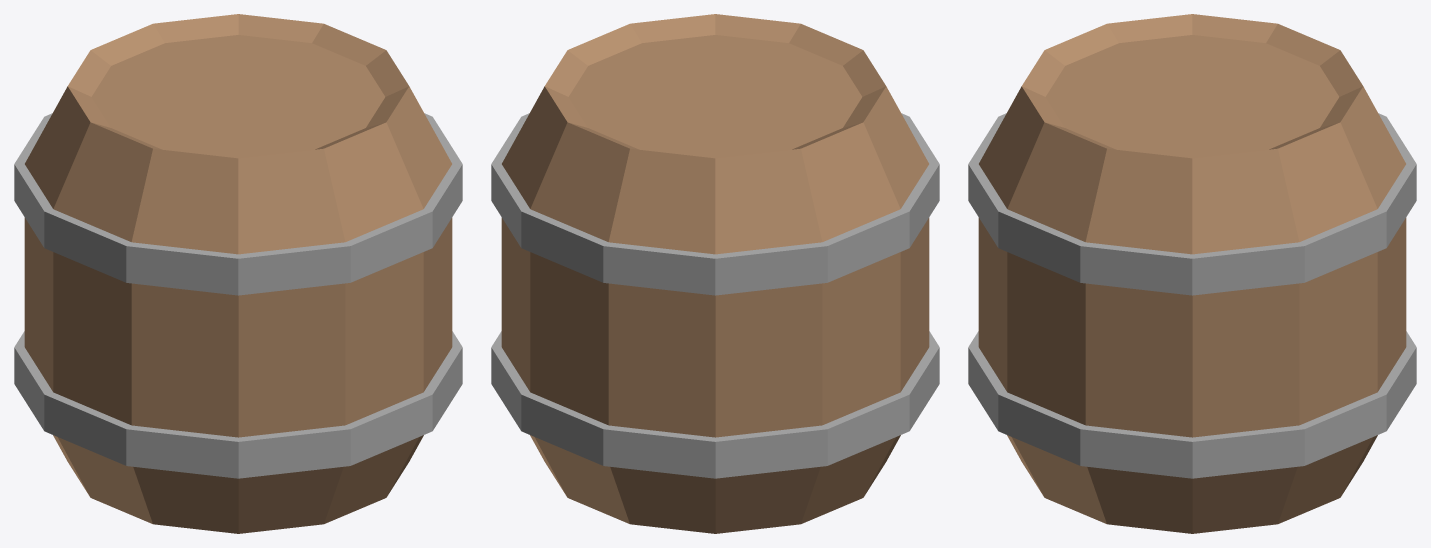
File: barile.fbx
3 views of the same model, side by side, from view 1: azimuth 30°, elevation 25°; view 2: azimuth 150°, elevation 25°; view 3: azimuth 270°, elevation 25° (orthographic).
Parts seen in each view (by area): view 1: pCylinder1; view 2: pCylinder1; view 3: pCylinder1.
Part boxes in pixels (x1=…): pCylinder1: x1=14, y1=14, x2=462, y2=533; pCylinder1: x1=491, y1=14, x2=939, y2=533; pCylinder1: x1=968, y1=14, x2=1416, y2=533.
Bounding box in the file's own units: 2.15 × 1.99 × 2.15.
